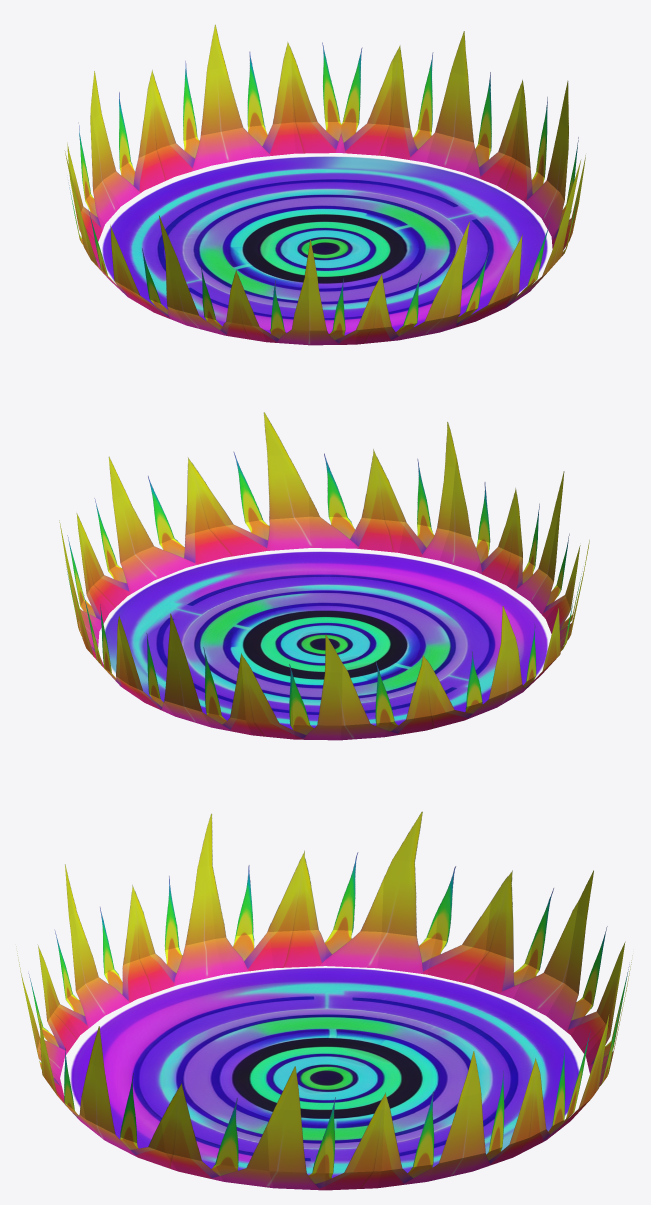
File: portal00.gltf
3 views of the same model, one above another, from view 1: azimuth 30°, elevation 25°; view 2: azimuth 150°, elevation 25°; view 3: azimuth 270°, elevation 25° (orthographic). The views are drawn at different scales.
Parts seen in each view (by area): view 1: flower, base; view 2: flower, base; view 3: flower, base.
Boxes of the visible parts, left/top/right/bottom form: flower: left=64, top=24, right=585, bottom=345; base: left=102, top=156, right=547, bottom=335; flower: left=59, top=412, right=589, bottom=740; base: left=105, top=551, right=547, bottom=729; flower: left=17, top=811, right=632, bottom=1190; base: left=71, top=968, right=579, bottom=1177.
Size of the model in its own units: 9.39 by 2.38 by 9.39.
Materials: 2 (2 with a texture image).
